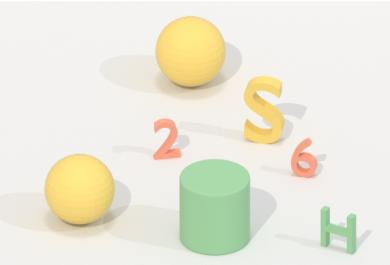0-KhoiTru: (176, 156, 254, 259)
0-Tron: (40, 150, 121, 231), (152, 13, 229, 90)
2: (150, 114, 185, 165)
6: (289, 134, 319, 180)
H: (315, 201, 359, 258)
S: (238, 71, 289, 149)
